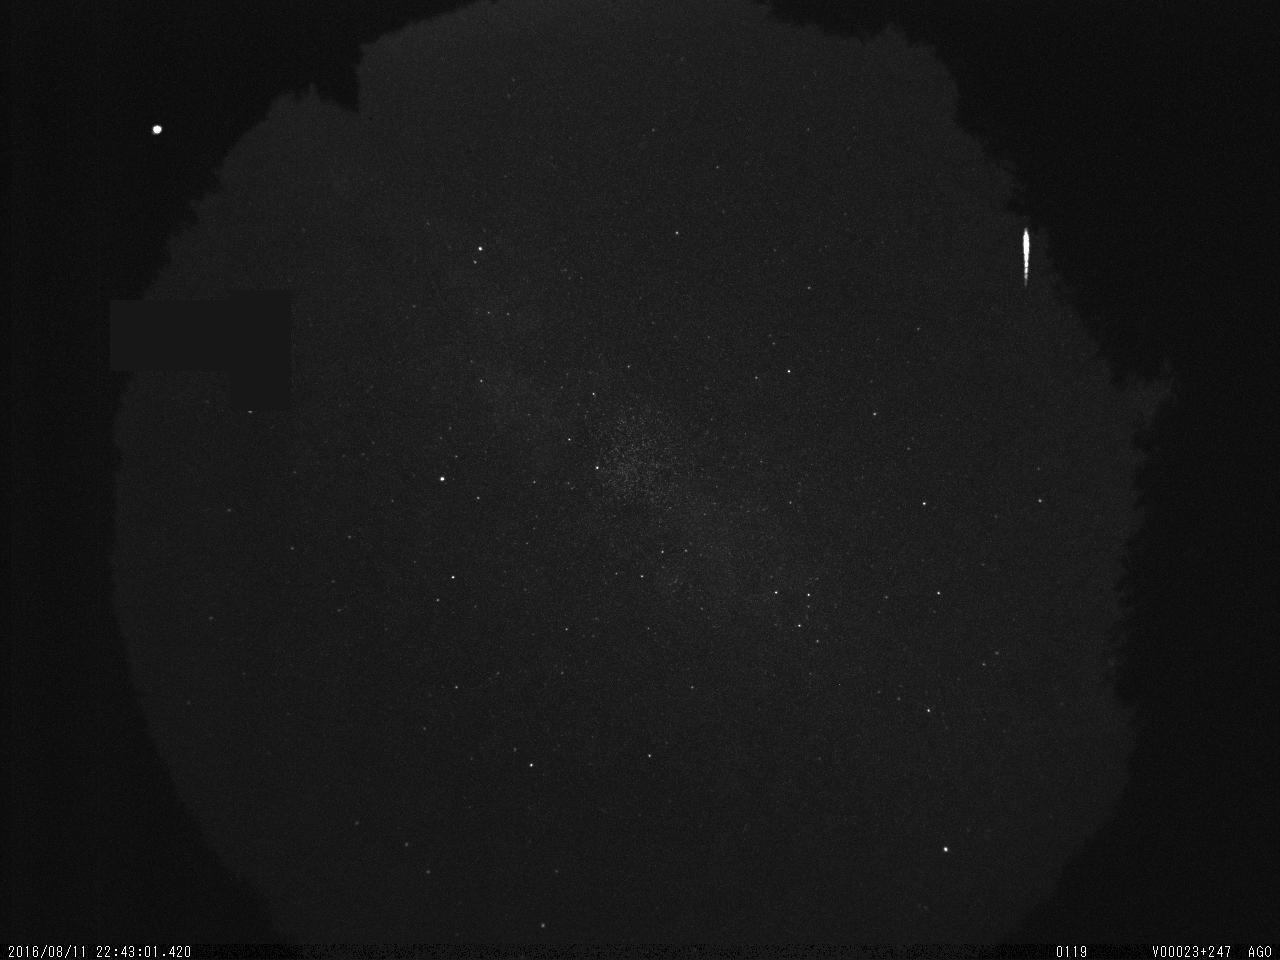Meteor: (1010, 214, 1041, 297)
